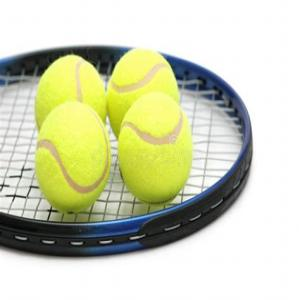Tennis: (118, 93, 194, 207), (31, 104, 110, 213), (109, 44, 184, 151), (31, 52, 108, 138)
